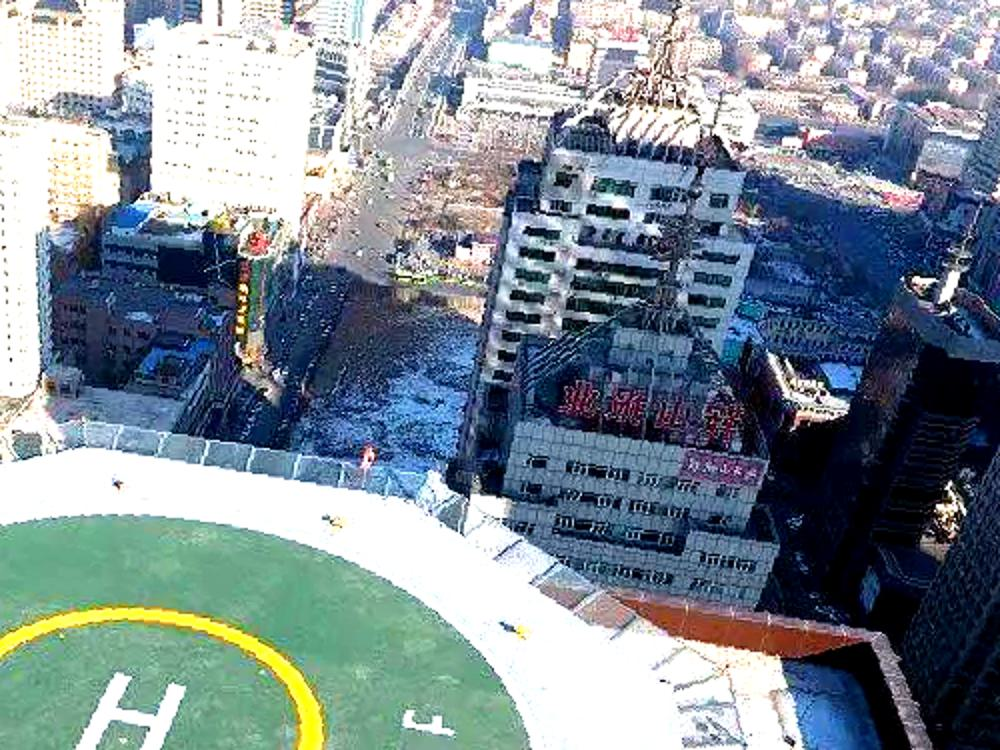Apron: (1, 597, 332, 749)
